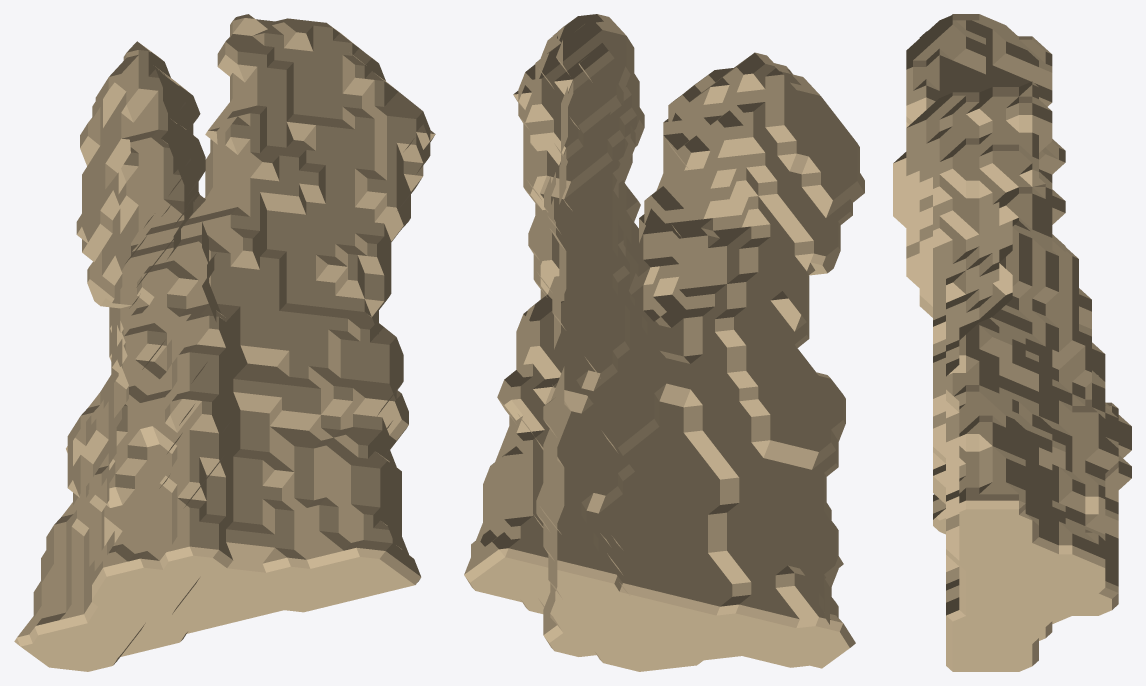
The model's file is region_0059_Fv__ventral_funiculus_.glb.
3 views of the same model, side by side, from view 1: azimuth 30°, elevation 25°; view 2: azimuth 150°, elevation 25°; view 3: azimuth 270°, elevation 25° (orthographic). The views are drawn at different scales.
Parts seen in each view (by area): view 1: world; view 2: world; view 3: world.
Part boxes in pixels (box(x1,y1,x2,y2)): world: box(14, 14, 435, 671); world: box(464, 14, 864, 671); world: box(893, 14, 1131, 671).
Bounding box in the file's own units: 0.24 × 0.352 × 0.144.
